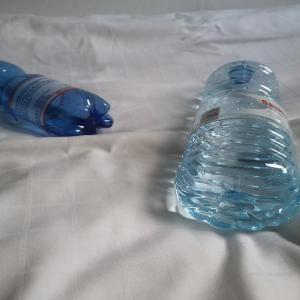Plastic-bottle: (173, 60, 300, 234), (1, 58, 116, 137)
